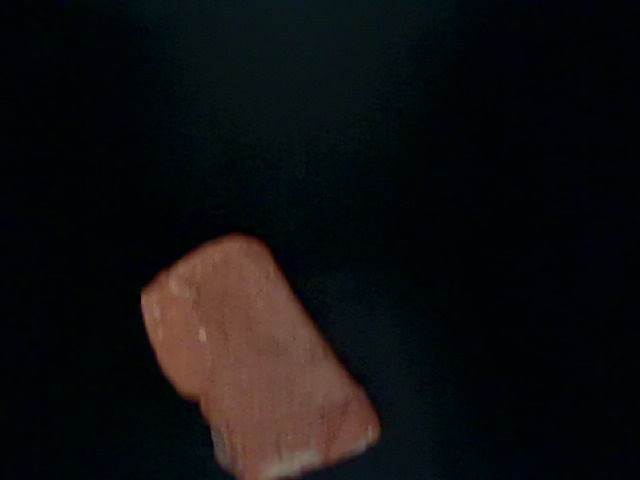KHSLJ: (138, 192, 617, 480)
